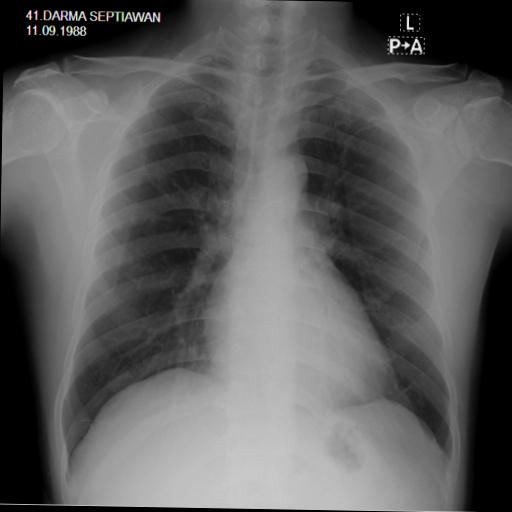kardiomegali: (52, 20, 474, 478)
